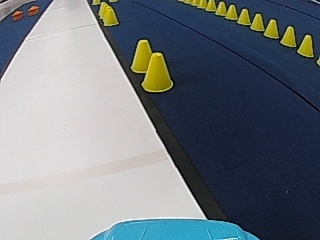cone: (140, 52, 174, 92), (130, 38, 153, 72), (296, 34, 314, 57), (280, 25, 296, 47), (263, 18, 279, 39), (102, 7, 118, 25), (249, 13, 264, 31), (237, 8, 250, 25), (224, 4, 237, 19), (215, 1, 226, 15), (205, 0, 215, 11)
